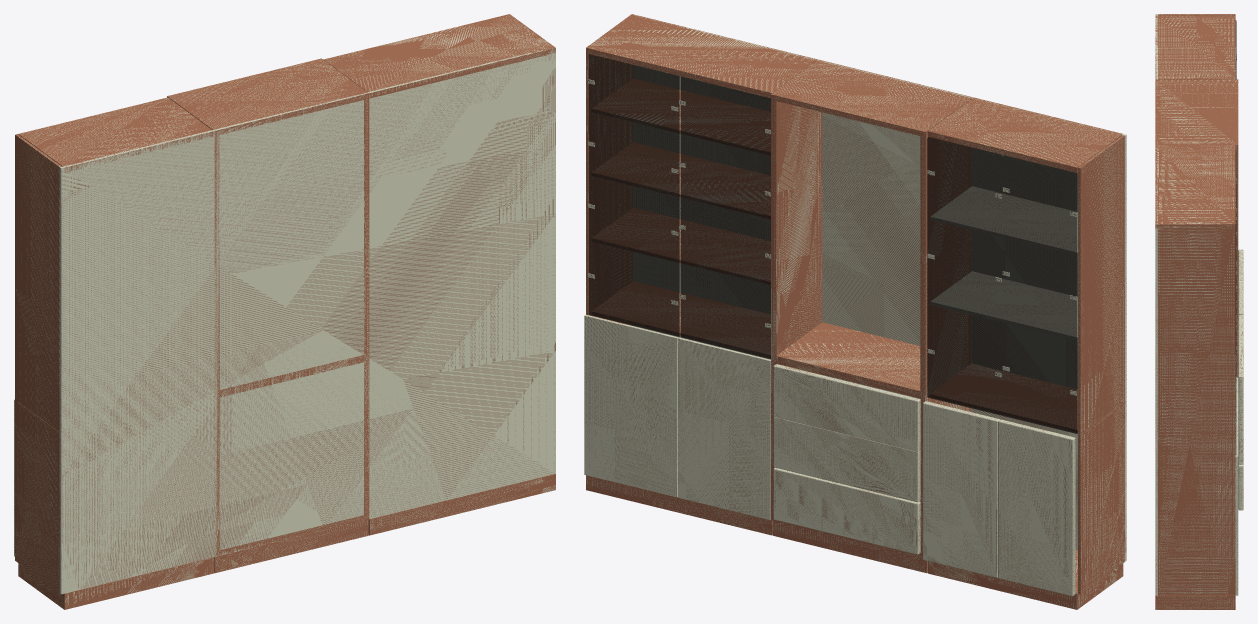
3 renders of one model, left to right at view 1: azimuth 30°, elevation 25°; view 2: azimuth 150°, elevation 25°; view 3: azimuth 270°, elevation 25°, orthographic. The views are drawn at different scales.
Visible parts, largest first — view 1: mesh35_mesh35-geometry, mesh40_mesh40-geometry, mesh49_mesh49-geometry, mesh42_mesh42-geometry, mesh50_mesh50-geometry, mesh51_mesh51-geometry, mesh1_mesh1-geometry; view 2: mesh35_mesh35-geometry, mesh40_mesh40-geometry, mesh48_mesh48-geometry, mesh37_mesh37-geometry, mesh38_mesh38-geometry, mesh52_mesh52-geometry, mesh53_mesh53-geometry, mesh36_mesh36-geometry, mesh39_mesh39-geometry, mesh41_mesh41-geometry, mesh4_mesh4-geometry, mesh5_mesh5-geometry (+13 smaller); view 3: mesh35_mesh35-geometry, mesh49_mesh49-geometry, mesh40_mesh40-geometry, mesh42_mesh42-geometry, mesh50_mesh50-geometry, mesh36_mesh36-geometry, mesh2_mesh2-geometry, mesh37_mesh37-geometry, mesh6_mesh6-geometry, mesh3_mesh3-geometry, mesh5_mesh5-geometry, mesh4_mesh4-geometry.
Part boxes in pixels (bbox=[...]): mesh35_mesh35-geometry: bbox=[15, 14, 555, 594]; mesh40_mesh40-geometry: bbox=[167, 58, 369, 555]; mesh49_mesh49-geometry: bbox=[323, 14, 555, 98]; mesh42_mesh42-geometry: bbox=[18, 97, 213, 172]; mesh50_mesh50-geometry: bbox=[368, 474, 555, 535]; mesh51_mesh51-geometry: bbox=[18, 557, 213, 609]; mesh1_mesh1-geometry: bbox=[214, 519, 368, 573]; mesh35_mesh35-geometry: bbox=[586, 14, 1126, 594]; mesh40_mesh40-geometry: bbox=[771, 59, 972, 557]; mesh48_mesh48-geometry: bbox=[927, 138, 1076, 433]; mesh37_mesh37-geometry: bbox=[588, 54, 679, 336]; mesh38_mesh38-geometry: bbox=[680, 76, 770, 359]; mesh52_mesh52-geometry: bbox=[1003, 155, 1077, 433]; mesh53_mesh53-geometry: bbox=[928, 137, 1002, 415]; mesh36_mesh36-geometry: bbox=[584, 314, 678, 497]; mesh39_mesh39-geometry: bbox=[678, 337, 770, 520]; mesh41_mesh41-geometry: bbox=[591, 281, 1125, 434]; mesh4_mesh4-geometry: bbox=[998, 419, 1075, 596]; mesh5_mesh5-geometry: bbox=[923, 401, 1000, 577]; mesh35_mesh35-geometry: bbox=[1155, 14, 1235, 595]; mesh49_mesh49-geometry: bbox=[1155, 145, 1235, 228]; mesh40_mesh40-geometry: bbox=[1155, 79, 1238, 377]; mesh42_mesh42-geometry: bbox=[1155, 15, 1235, 79]; mesh50_mesh50-geometry: bbox=[1155, 595, 1235, 609]; mesh36_mesh36-geometry: bbox=[1235, 417, 1238, 595]; mesh2_mesh2-geometry: bbox=[1238, 315, 1243, 420]; mesh37_mesh37-geometry: bbox=[1235, 189, 1236, 454]; mesh6_mesh6-geometry: bbox=[1238, 464, 1243, 510]; mesh3_mesh3-geometry: bbox=[1238, 420, 1243, 464]; mesh5_mesh5-geometry: bbox=[1238, 281, 1243, 315]; mesh4_mesh4-geometry: bbox=[1238, 249, 1243, 281].
Bounding box in the file's own units: 0.7536 × 0.6437 × 0.1334.
